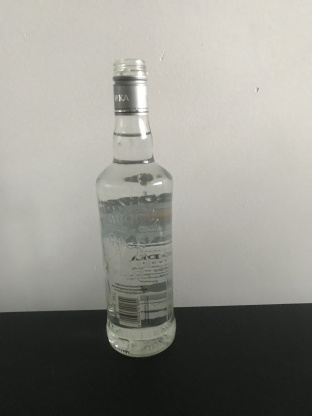nakretka: (111, 56, 150, 116)
